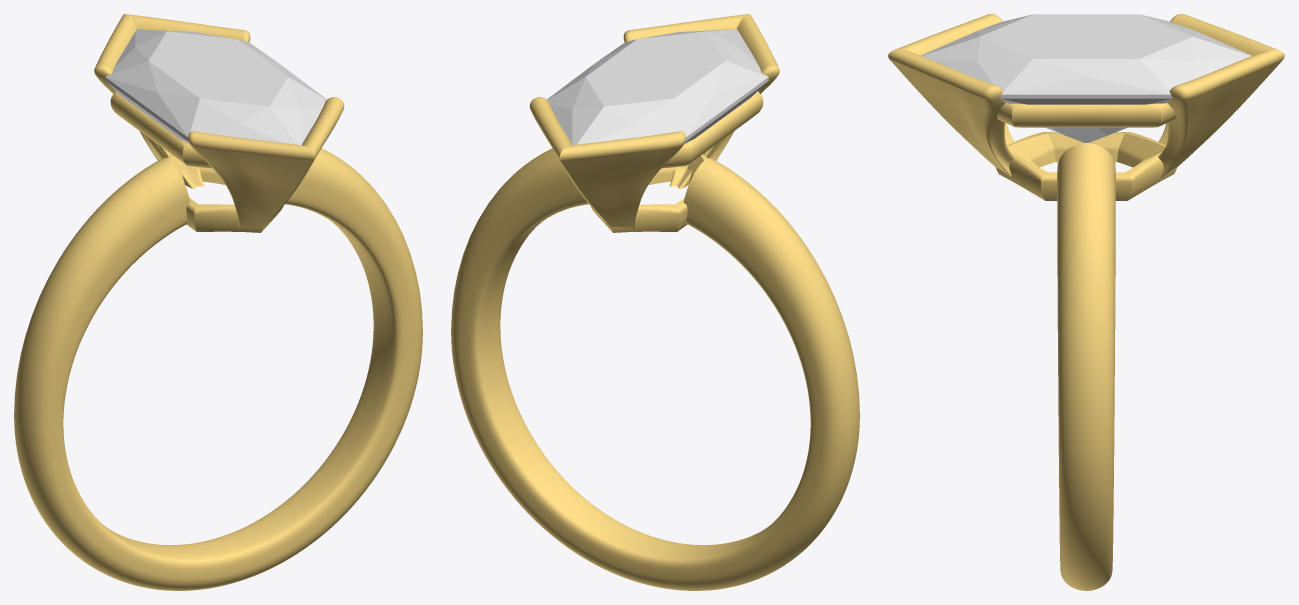
The model's file is KathyYGhexEng_blender.glb.
3 views of the same model, side by side, from view 1: azimuth 30°, elevation 25°; view 2: azimuth 150°, elevation 25°; view 3: azimuth 270°, elevation 25° (orthographic). The views are drawn at different scales.
Parts seen in each view (by area): view 1: Kathy YG for 3d model, Kathy dia for 3d model; view 2: Kathy YG for 3d model, Kathy dia for 3d model; view 3: Kathy YG for 3d model, Kathy dia for 3d model.
Part boxes in pixels (x1,y1,x2,y2): Kathy YG for 3d model: [14, 14, 422, 590]; Kathy dia for 3d model: [105, 29, 326, 169]; Kathy YG for 3d model: [451, 14, 859, 590]; Kathy dia for 3d model: [547, 29, 768, 169]; Kathy YG for 3d model: [888, 14, 1284, 590]; Kathy dia for 3d model: [921, 14, 1251, 142].
Bounding box in the file's own units: 20.32 × 24.98 × 16.88.
